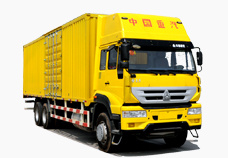bigtruck: (19, 11, 201, 155)
